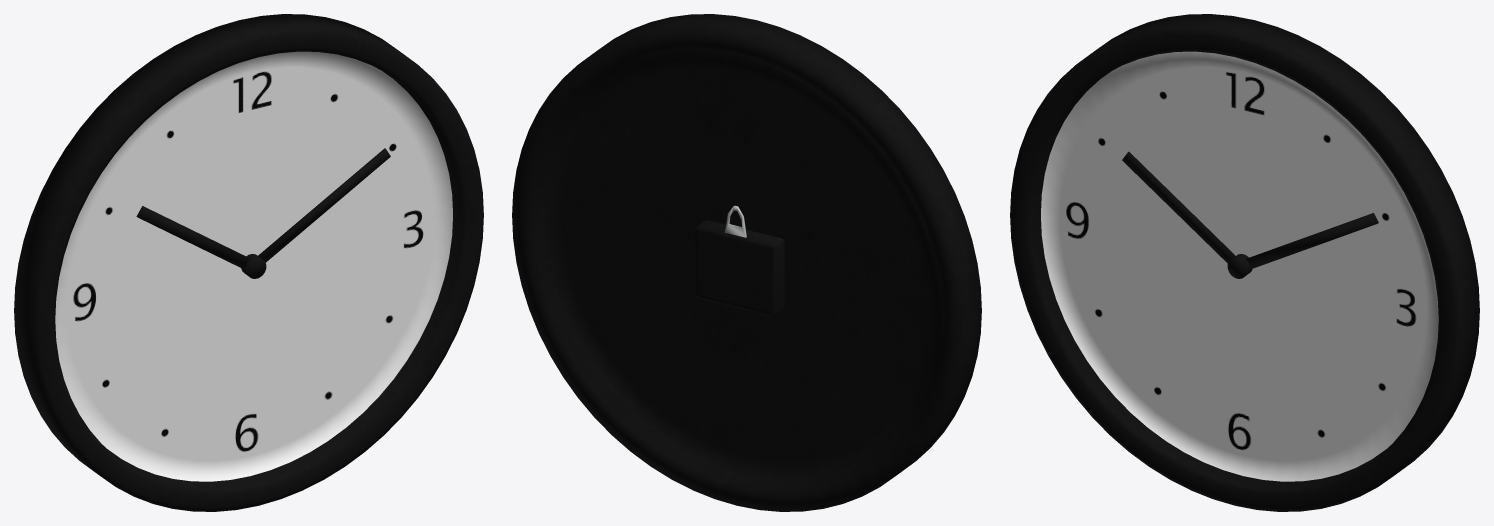
The picture shows the model from 3 angles, left to right: view 1: azimuth 30°, elevation 25°; view 2: azimuth 150°, elevation 25°; view 3: azimuth 330°, elevation 25°; orthographic projection.
Visible parts, largest first — view 1: WallClock3; view 2: WallClock3; view 3: WallClock3.
Boxes of the visible parts, left/top/right/bottom form: WallClock3: left=14, top=14, right=483, bottom=511; WallClock3: left=512, top=14, right=981, bottom=511; WallClock3: left=1010, top=14, right=1479, bottom=511.
Size of the model in its own units: 347 by 347 by 30.63.
